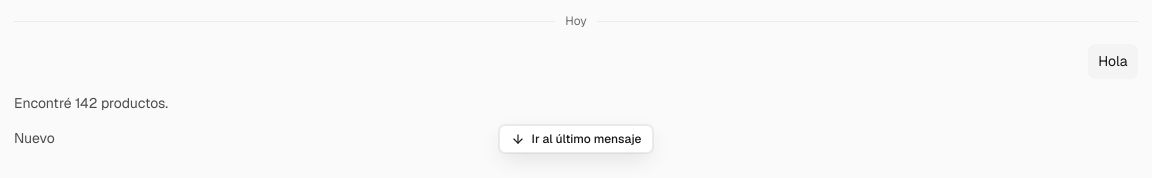
it: ChatThread › pauses auto-scroll when the user scrolls up and offers a jump button
The image size is (1152, 178).
(page scrolled)
Click the button "Ir al último mensaje" at x=576, y=138, box [499,124,653,152]
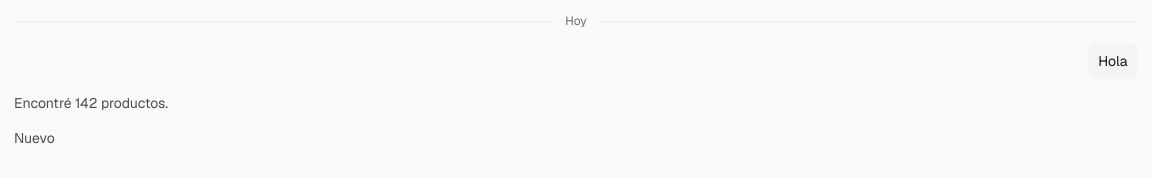
Check: the button "Ir al último mensaje" is gone
